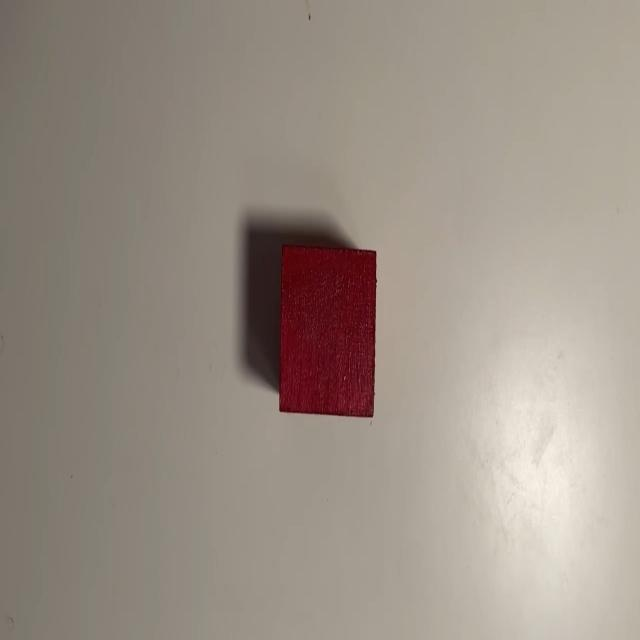red_block: (278, 244, 377, 418)
